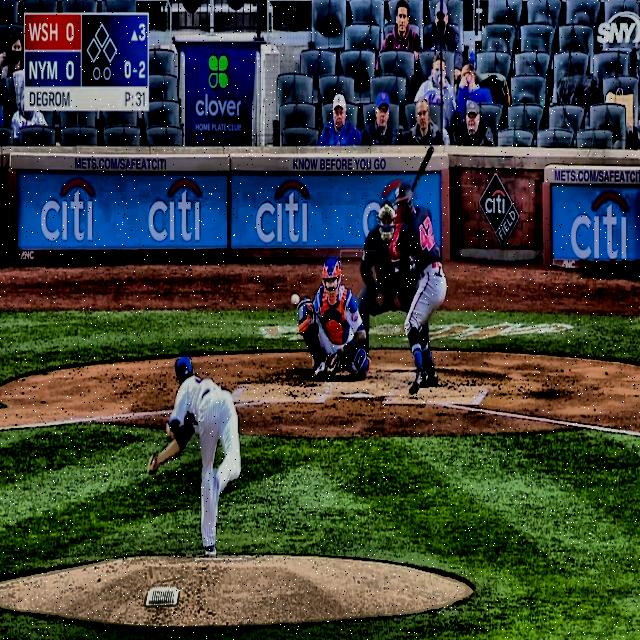baseball: (292, 293, 300, 306)
